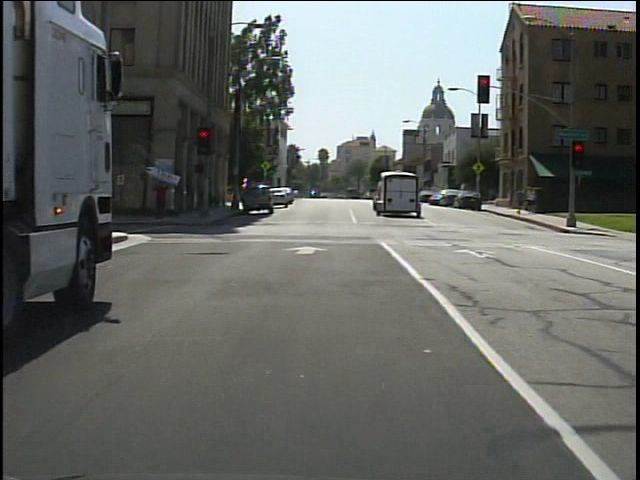person: (152, 174, 175, 223), (514, 185, 527, 219), (525, 187, 540, 216)
